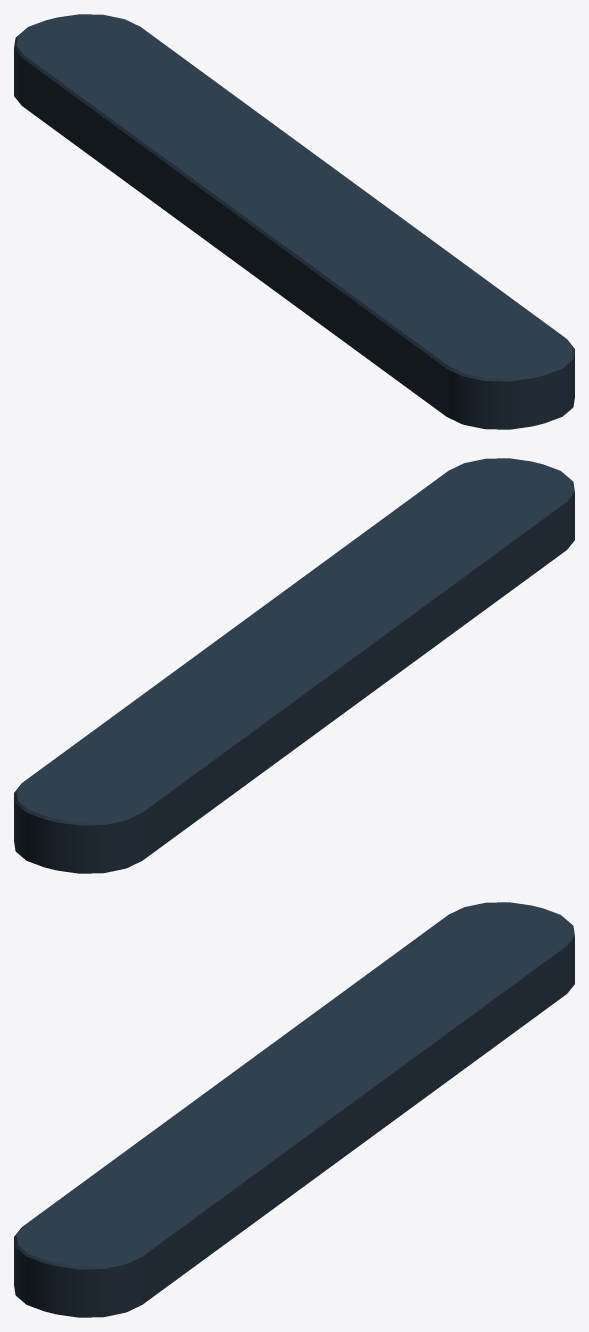
File: be dai.fbx
3 views of the same model, one above another, from view 1: azimuth 30°, elevation 25°; view 2: azimuth 150°, elevation 25°; view 3: azimuth 330°, elevation 25° (orthographic).
Parts seen in each view (by area): view 1: be_dai; view 2: be_dai; view 3: be_dai.
Part boxes in pixels (box(x1,y1,x2,y2)): be_dai: box(14, 14, 574, 429); be_dai: box(14, 458, 574, 873); be_dai: box(14, 902, 574, 1317).
Bounding box in the file's own units: 100 × 39.89 × 700.
